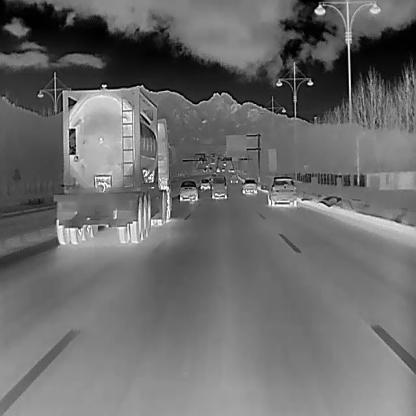car: (266, 174, 296, 206), (178, 178, 198, 200), (210, 175, 226, 199), (240, 178, 257, 194), (200, 178, 210, 189), (229, 173, 238, 183), (203, 166, 207, 172), (221, 166, 225, 172), (228, 168, 234, 172), (222, 161, 226, 166), (208, 166, 213, 170)
truck: (54, 83, 176, 244)
